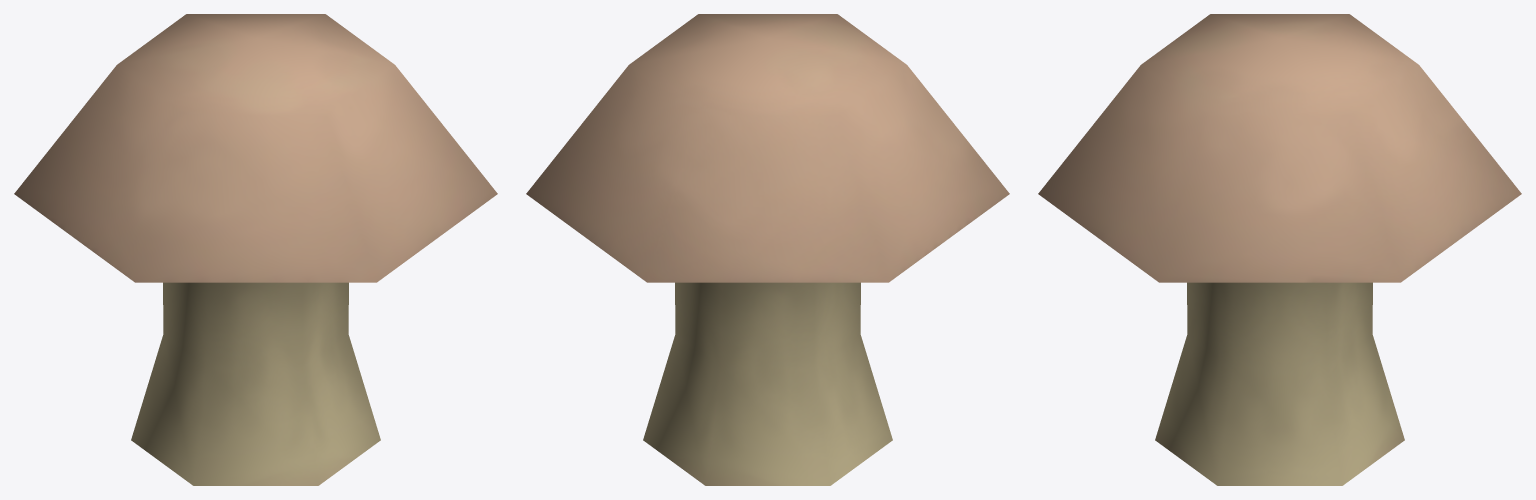
Rendered from mushroom.glb.
3 renders of one model, left to right at view 1: azimuth 30°, elevation 25°; view 2: azimuth 150°, elevation 25°; view 3: azimuth 270°, elevation 25°, orthographic.
Visible parts, largest first — view 1: mushroom 1_leaf and grass_0; view 2: mushroom 1_leaf and grass_0; view 3: mushroom 1_leaf and grass_0.
Part boxes in pixels (<box>): mushroom 1_leaf and grass_0: <box>14,14,497,485</box>; mushroom 1_leaf and grass_0: <box>526,14,1009,485</box>; mushroom 1_leaf and grass_0: <box>1038,14,1521,485</box>.
Bounding box in the file's own units: 0.1627 × 0.1719 × 0.1879.
Materials: 1 (1 with a texture image).
